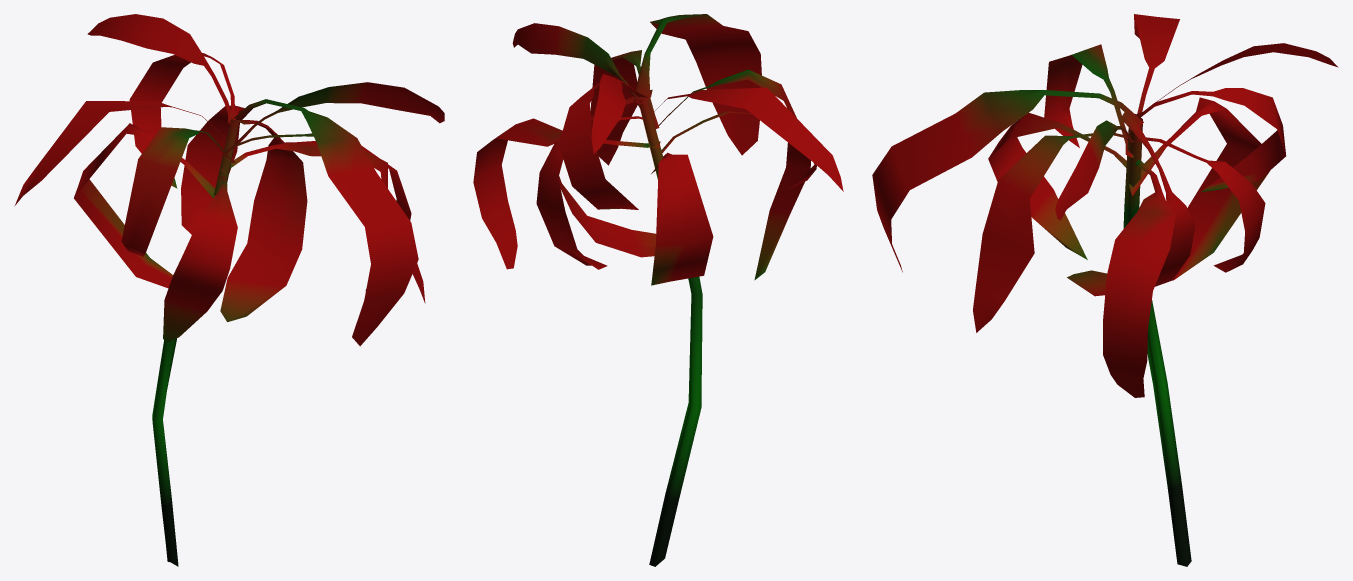
File: Var11_LOD1.fbx
3 renders of one model, left to right at view 1: azimuth 30°, elevation 25°; view 2: azimuth 150°, elevation 25°; view 3: azimuth 270°, elevation 25°, orthographic. The views are drawn at different scales.
Visible parts, largest first — view 1: _7e46_Var11_LOD1; view 2: _7e46_Var11_LOD1; view 3: _7e46_Var11_LOD1.
Boxes of the visible parts, left/top/right/bottom form: _7e46_Var11_LOD1: left=14, top=14, right=444, bottom=566; _7e46_Var11_LOD1: left=473, top=14, right=843, bottom=566; _7e46_Var11_LOD1: left=872, top=14, right=1338, bottom=566.
Size of the model in its own units: 33 by 42.34 by 33.79.
